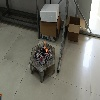fire: (44, 40, 48, 53), (35, 50, 36, 52)
